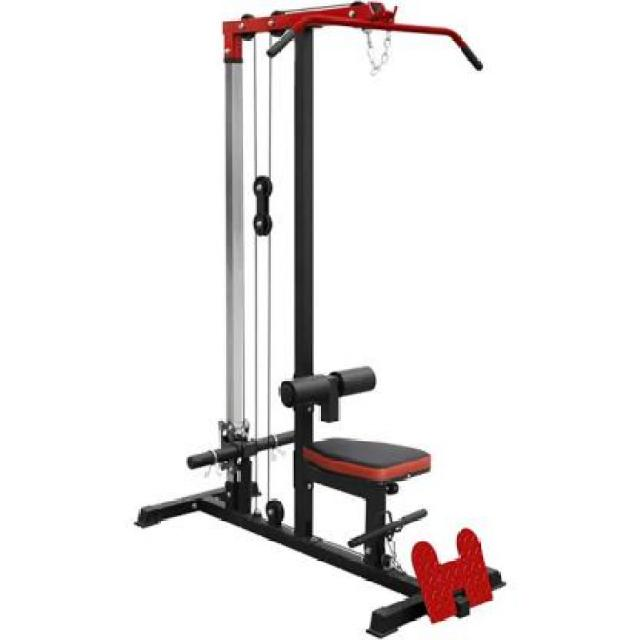Lat Pull Down: (81, 0, 537, 640)
